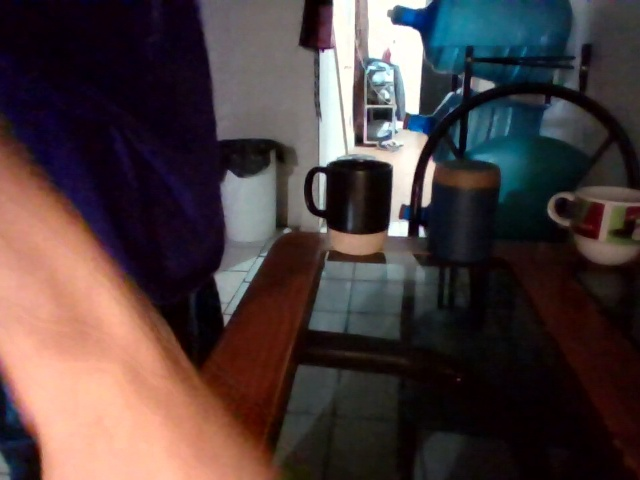taza: (304, 157, 393, 257)
